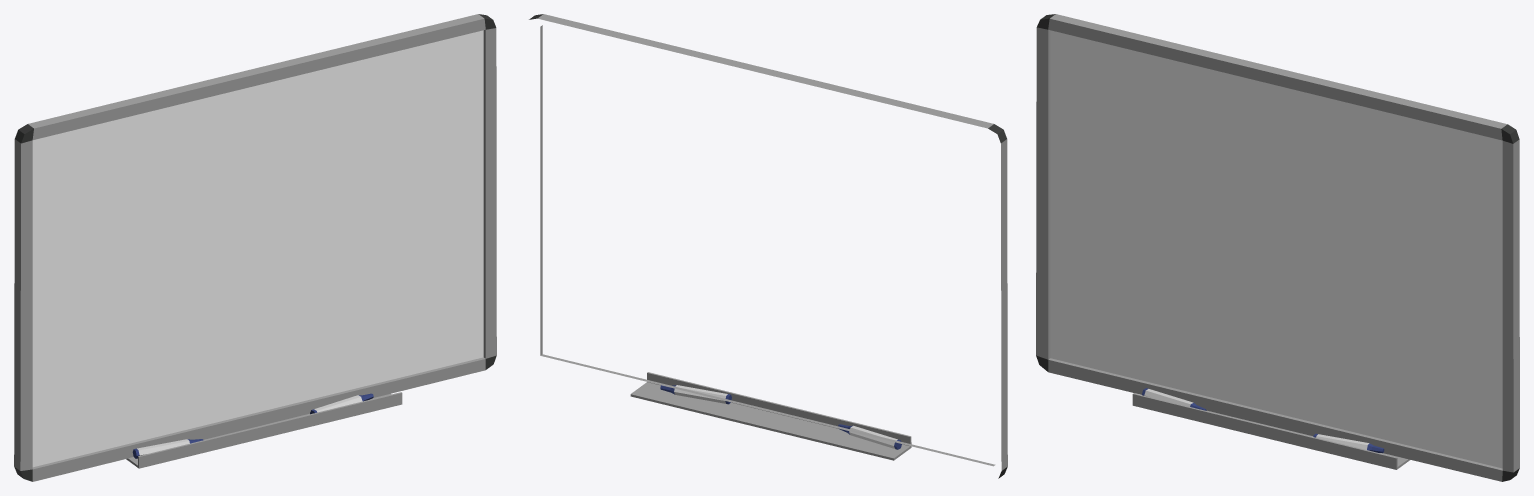
File: WhiteBoard.glb
3 renders of one model, left to right at view 1: azimuth 30°, elevation 25°; view 2: azimuth 150°, elevation 25°; view 3: azimuth 330°, elevation 25°, orthographic.
Parts seen in each view (by area): view 1: WhiteBoard; view 2: WhiteBoard; view 3: WhiteBoard.
Part boxes in pixels (x1,y1,x2,y2): WhiteBoard: (14, 14, 496, 481); WhiteBoard: (529, 14, 1007, 478); WhiteBoard: (1036, 14, 1519, 481).
Size of the model in its own units: 1.8 by 1.28 by 0.1153.
Materials: 1 (1 with a texture image).
